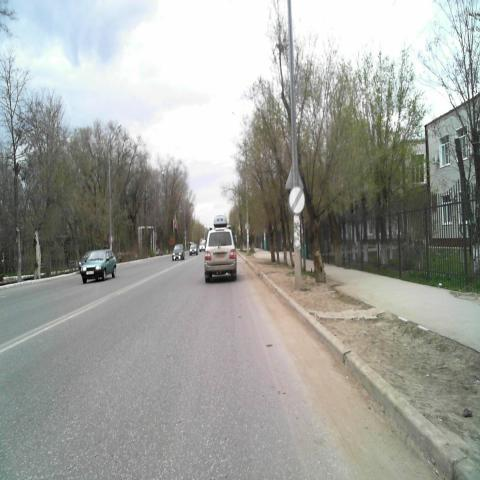3_31: (288, 185, 305, 214)
